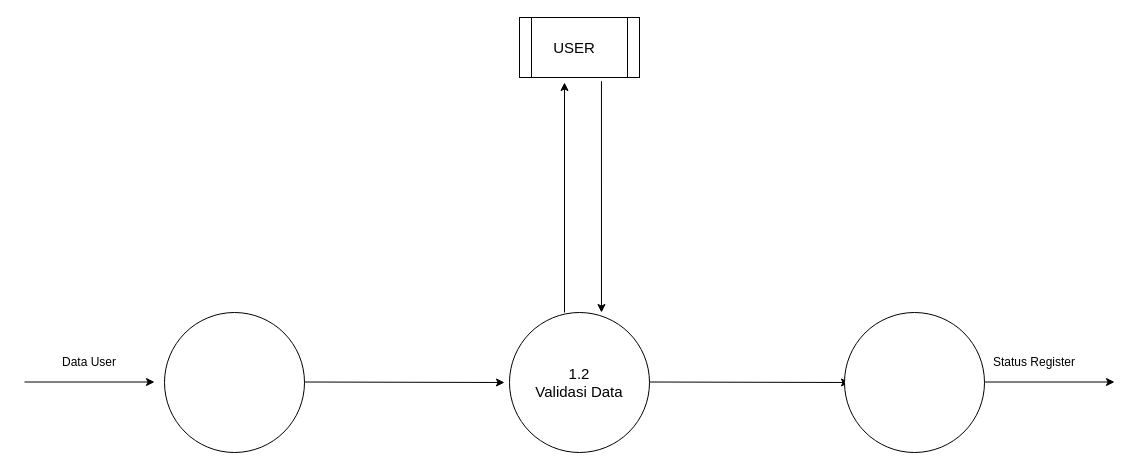
Some shapes in this 1140 by 470 pixel diagram are drawn without their labels. The shapes that lost their labels are listed below. From the top down, each one's centre as x and y in pixels, then its label:
At (x=234, y=382): "1.1 Input Data Pengguna".
At (x=914, y=382): "1.3 Menampilkan Status Register".
